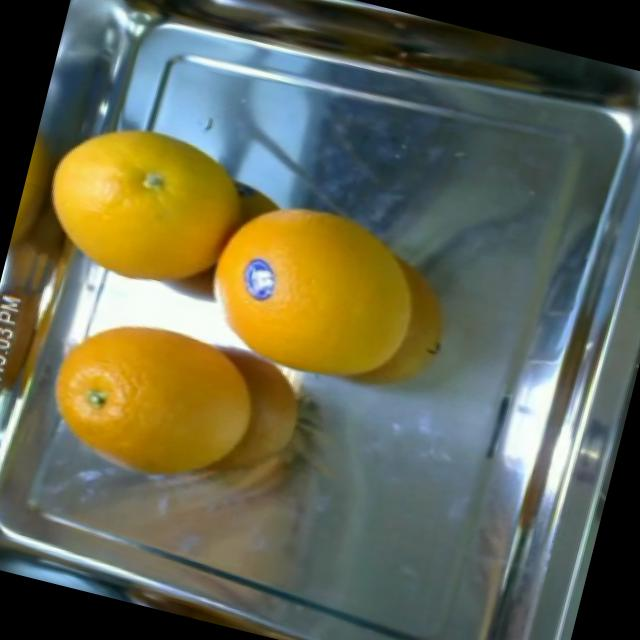Fruit: (16, 276, 267, 508), (8, 100, 262, 318)
